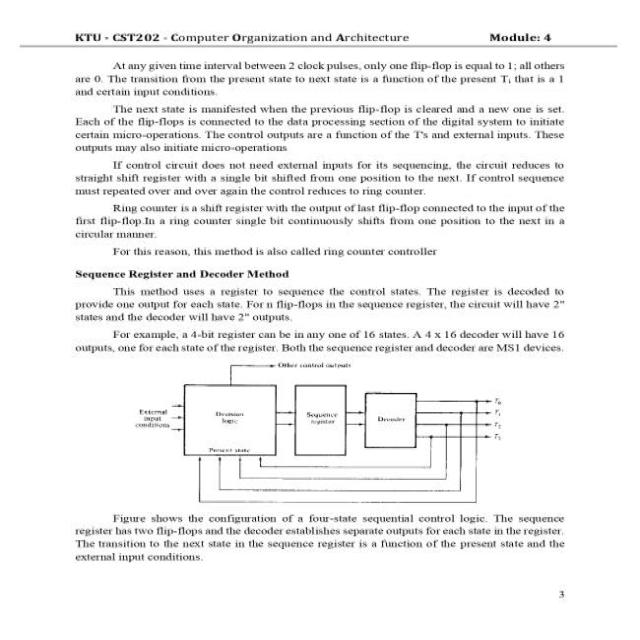Figure Detection - v3 Dataset Version2: (124, 356, 518, 508)
